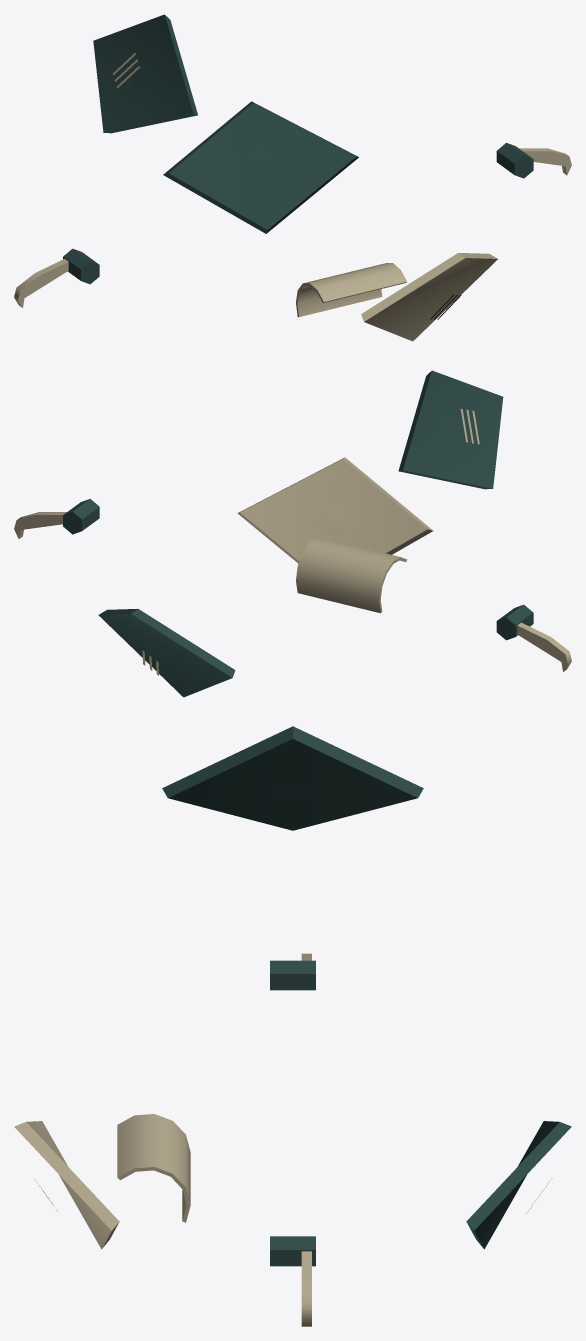
The model's file is shell_tarn_c4.glb.
3 views of the same model, one above another, from view 1: azimuth 30°, elevation 25°; view 2: azimuth 150°, elevation 25°; view 3: azimuth 270°, elevation 25° (orthographic). The views are drawn at different scales.
Visible parts, largest first — view 1: Pod, ClawHooks; view 2: Pod, ClawHooks; view 3: Pod, ClawHooks.
Part boxes in pixels (x1,y1,x2,y2): Pod: [63, 14, 533, 341]; ClawHooks: [14, 148, 571, 307]; Pod: [63, 370, 533, 697]; ClawHooks: [14, 512, 571, 671]; Pod: [14, 726, 571, 1266]; ClawHooks: [301, 953, 311, 1326].
Bounding box in the file's own units: 2.53 × 1.38 × 1.69.
